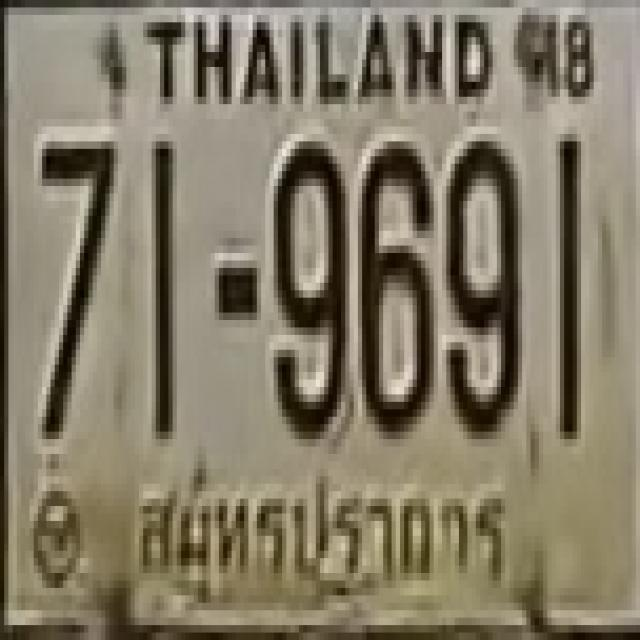1: (149, 134, 175, 432), (556, 130, 577, 436)
6: (358, 134, 429, 432)
7: (38, 134, 114, 432)
9: (442, 134, 518, 432), (272, 134, 343, 432)
SPK: (124, 454, 512, 604)
